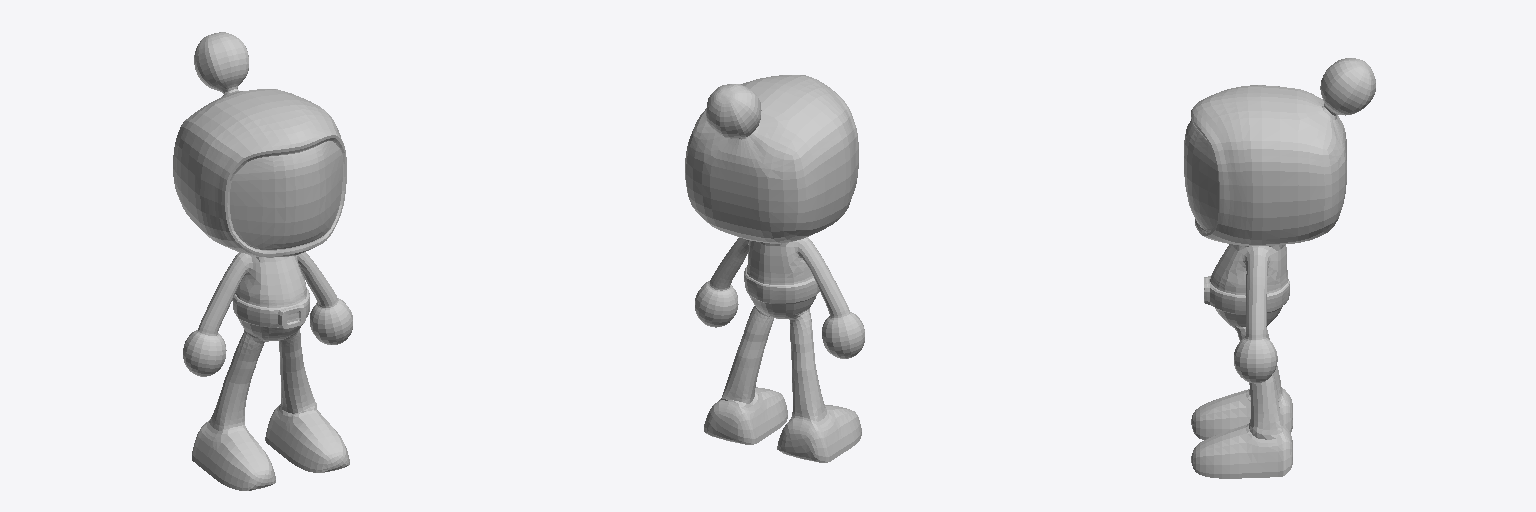
Rendered from Bomberman.obj.
The picture shows the model from 3 angles: view 1: azimuth 30°, elevation 25°; view 2: azimuth 150°, elevation 25°; view 3: azimuth 270°, elevation 25°; orthographic projection.
Parts seen in each view (by area): view 1: polySurface23 Bomberman_All; view 2: polySurface23 Bomberman_All; view 3: polySurface23 Bomberman_All.
Boxes of the visible parts, box(x1,y1,x2,y2) form: polySurface23 Bomberman_All: box(173, 32, 352, 490); polySurface23 Bomberman_All: box(685, 75, 864, 462); polySurface23 Bomberman_All: box(1184, 58, 1375, 478).
Size of the model in its own units: 2.41 by 5.45 by 2.44.